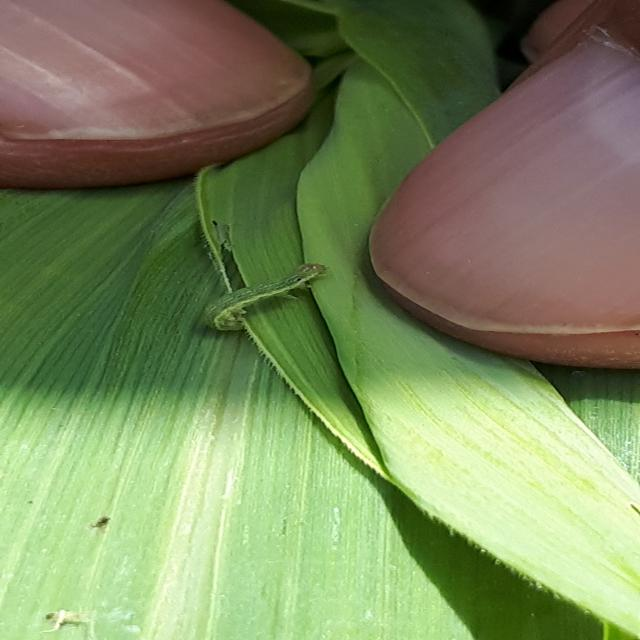armyworm: (199, 261, 342, 333)
